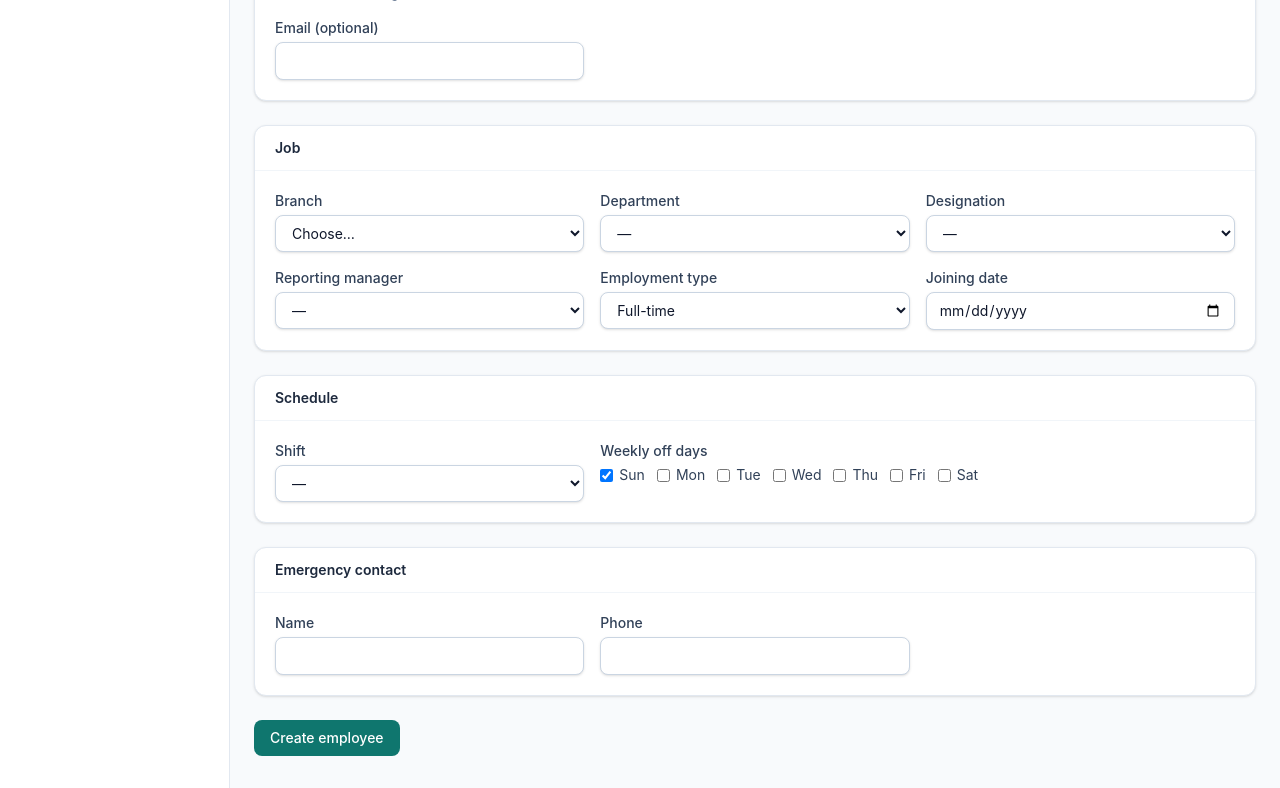
Test case: add employee form › validates required fields, then sends a clean payload
Later steps or results of the test are not shown.
(page scrolled)
Step 1. Click the button "Create employee" → x=327, y=738, box [254,720,400,756]
(page scrolled)
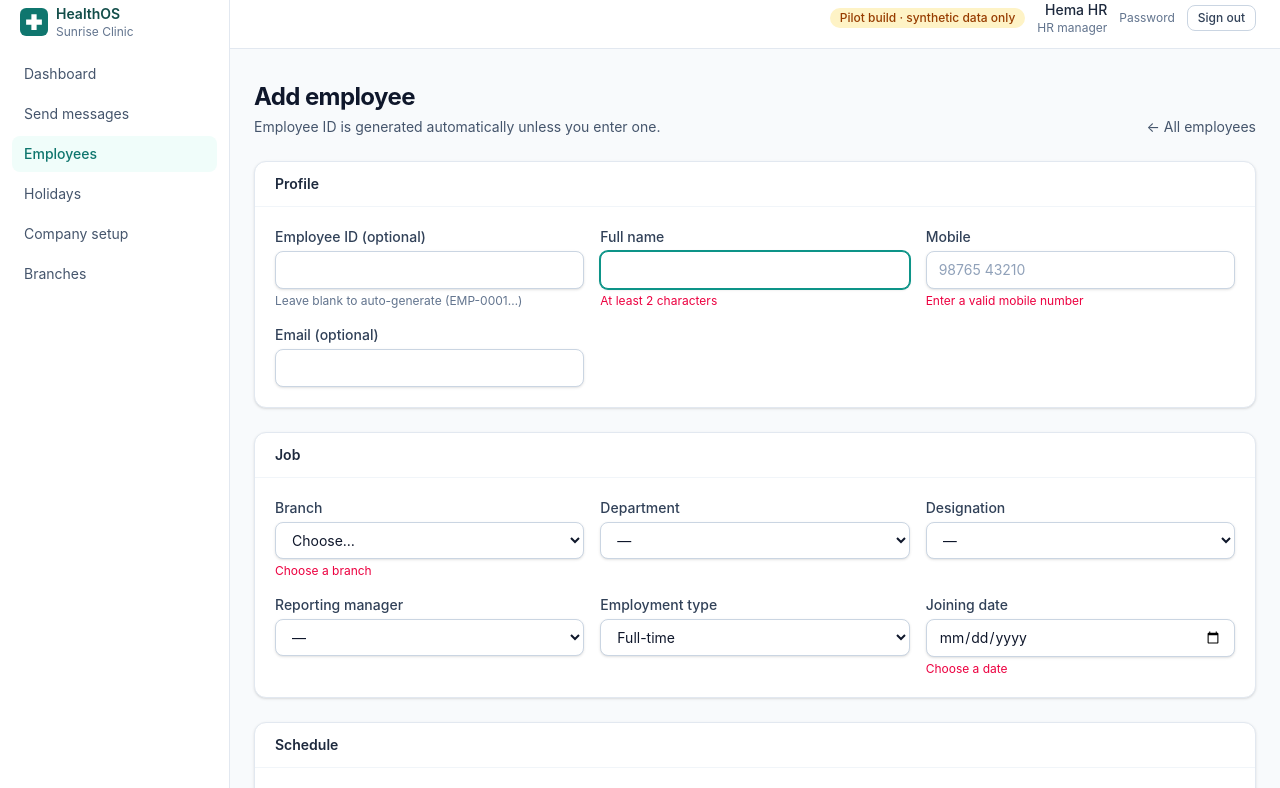
Check: the text "At least 2 characters" is shown, box [600,293,717,308]
Check: the text "Choose a branch" is shown, box [275,563,372,578]
